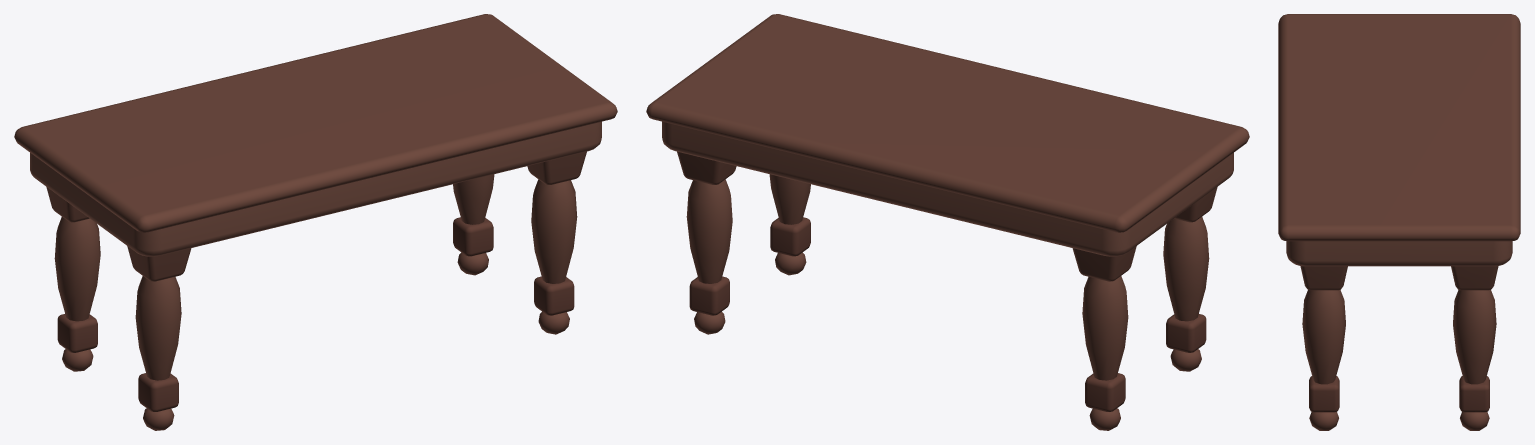
Rendered from Kitchen_Table_09.fbx.
3 views of the same model, side by side, from view 1: azimuth 30°, elevation 25°; view 2: azimuth 150°, elevation 25°; view 3: azimuth 270°, elevation 25° (orthographic). The views are drawn at different scales.
Parts seen in each view (by area): view 1: Kitchen_Table_09; view 2: Kitchen_Table_09; view 3: Kitchen_Table_09.
Boxes of the visible parts, left/top/right/bottom form: Kitchen_Table_09: left=14, top=14, right=617, bottom=430; Kitchen_Table_09: left=646, top=14, right=1249, bottom=430; Kitchen_Table_09: left=1278, top=14, right=1520, bottom=430.
Size of the model in its own units: 1.6 by 0.7527 by 0.75.
